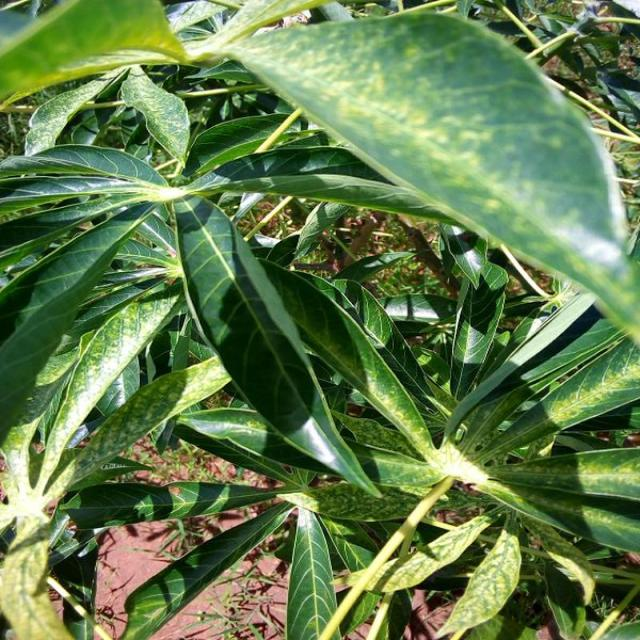cassava leaf: (0, 1, 638, 637), (209, 8, 638, 344)
